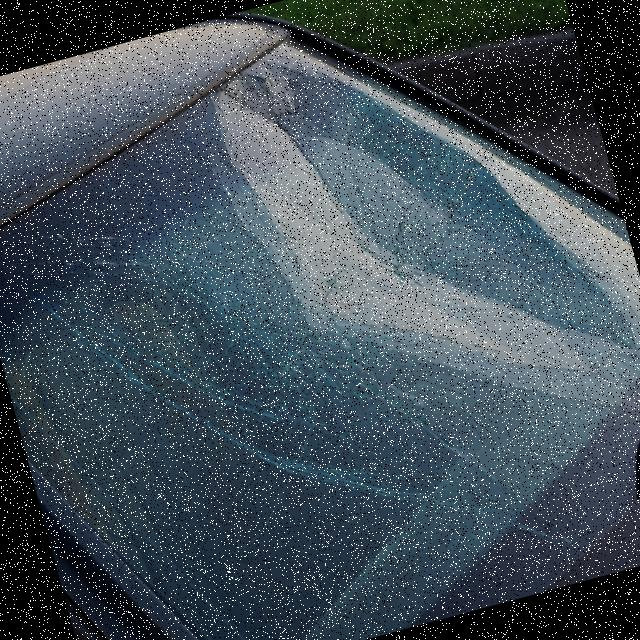Windshield: (116, 0, 640, 567)
